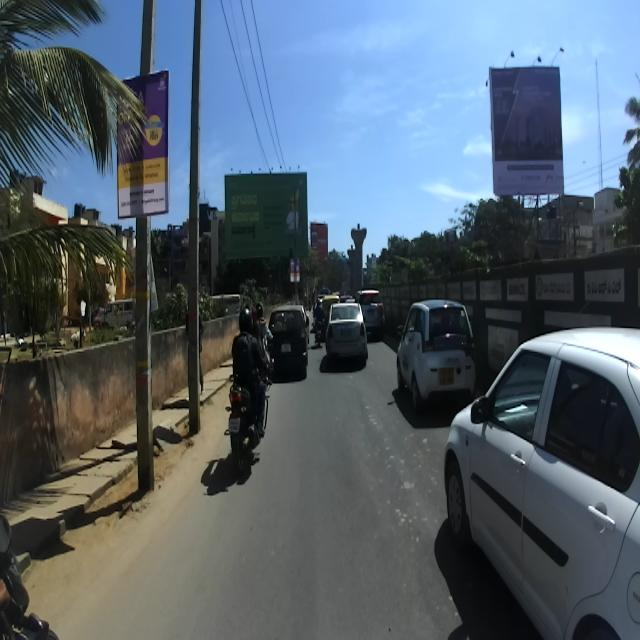car ahead at: (444, 327, 639, 640), (324, 292, 366, 363)
electric pole ahead at: (182, 0, 206, 432)
motorcycle ahead at: (226, 384, 270, 472)
